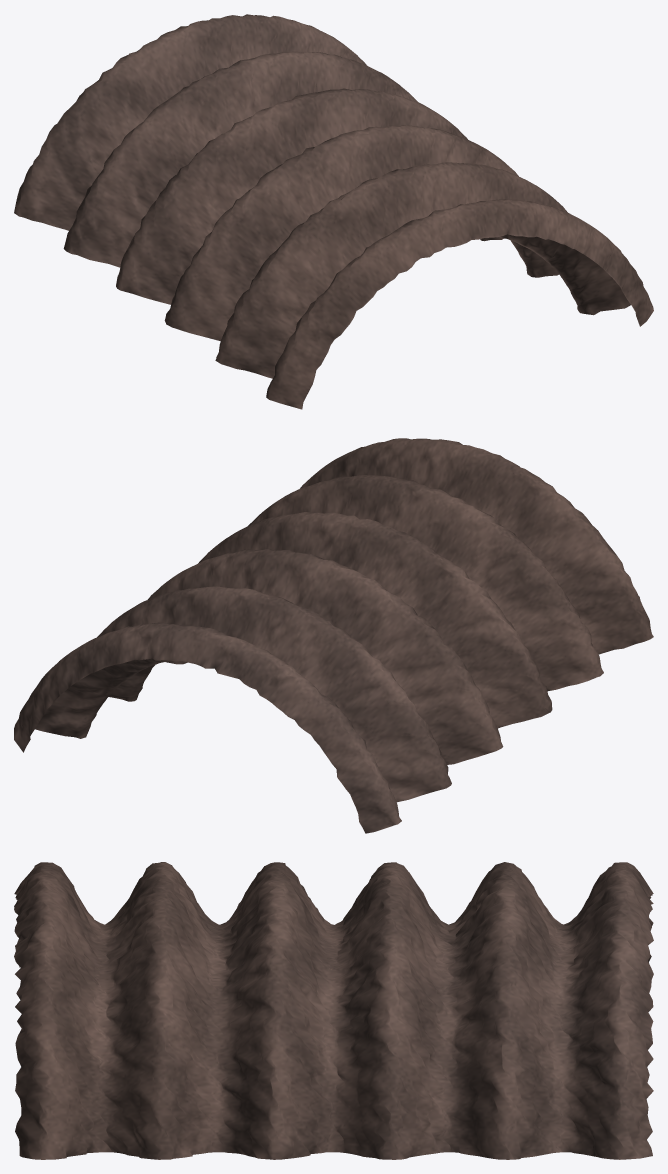
Rendered from RibTunnelWall.obj.
3 renders of one model, top to bottom at view 1: azimuth 30°, elevation 25°; view 2: azimuth 150°, elevation 25°; view 3: azimuth 270°, elevation 25°, orthographic. The views are drawn at different scales.
Parts seen in each view (by area): view 1: RibTunnelWall_HD; view 2: RibTunnelWall_HD; view 3: RibTunnelWall_HD.
Boxes of the visible parts, x1,y1,x2,y2 form: RibTunnelWall_HD: [14, 14, 653, 409]; RibTunnelWall_HD: [14, 438, 653, 833]; RibTunnelWall_HD: [14, 862, 653, 1159].
Bounding box in the file's own units: 1.6 × 0.642 × 2.02.
Materials: 1 (1 with a texture image).
